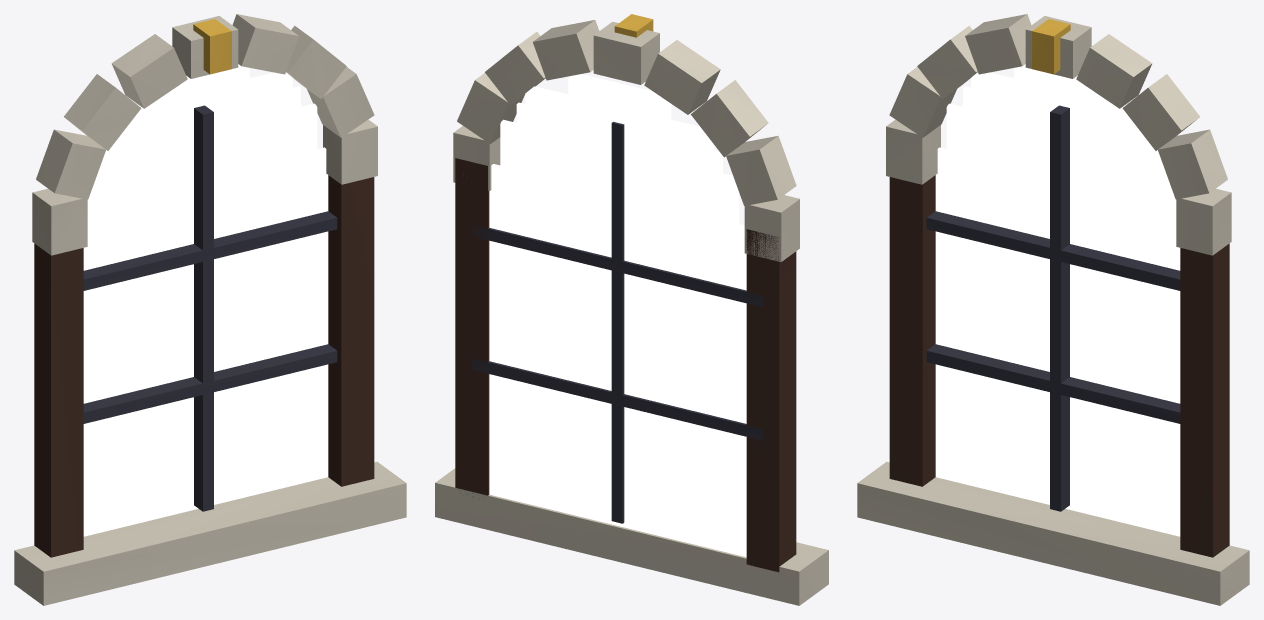
Rendered from window_frame.glb.
3 renders of one model, left to right at view 1: azimuth 30°, elevation 25°; view 2: azimuth 150°, elevation 25°; view 3: azimuth 330°, elevation 25°, orthographic.
Visible parts, largest first — view 1: Frame, Glow; view 2: Glow, Frame; view 3: Frame, Glow.
Boxes of the visible parts, x1,y1,x2,y2 form: Frame: (14,14,406,605); Glow: (83,64,328,536); Glow: (489,74,746,557); Frame: (435,14,828,605); Frame: (857,14,1249,605); Glow: (935,64,1180,536).
Size of the model in its own units: 1 by 1.38 by 0.14.
